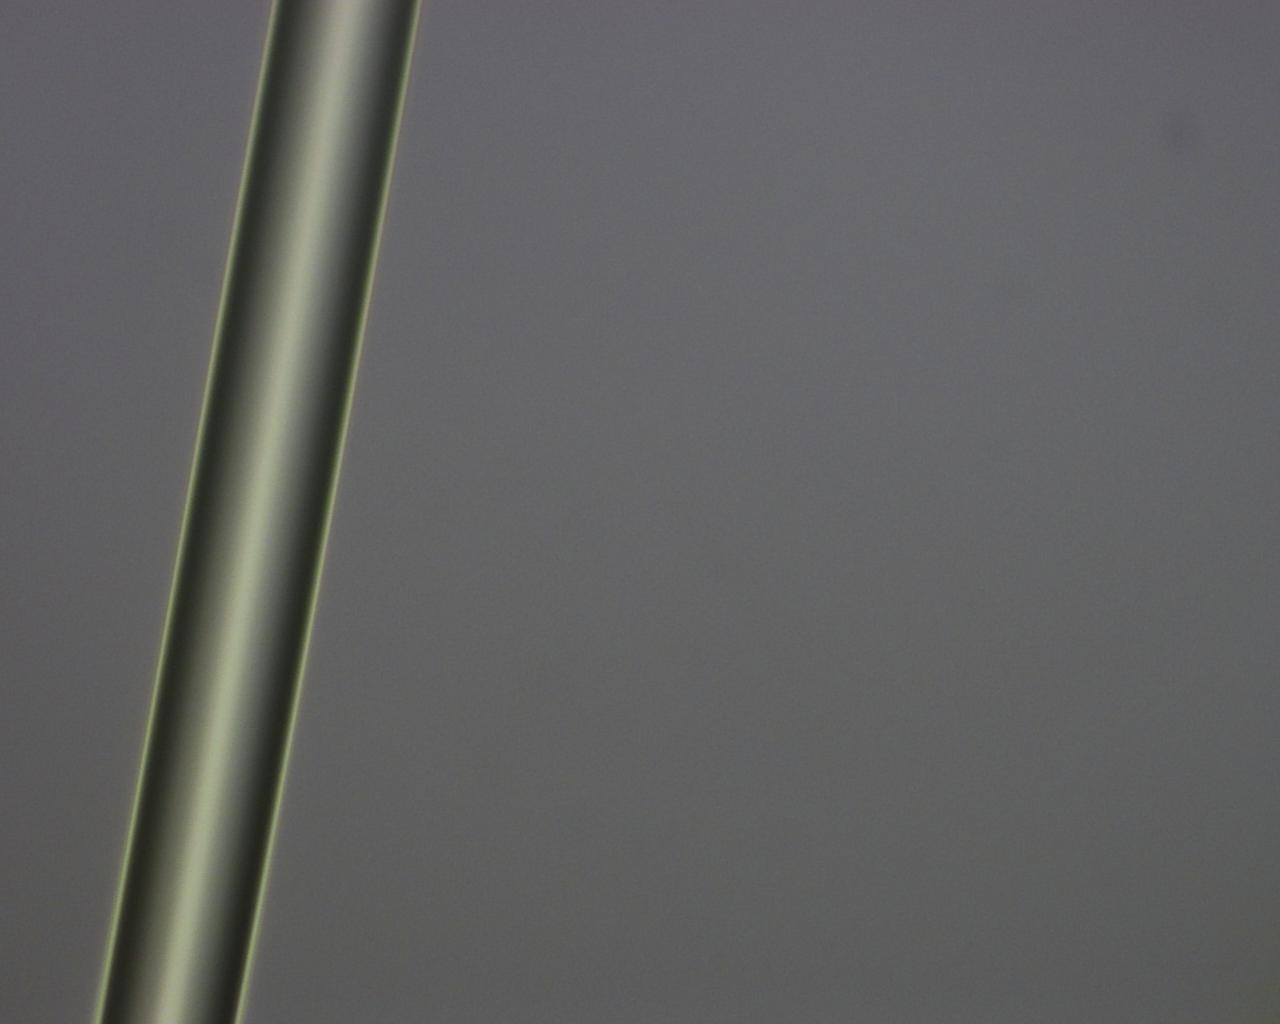fiber: (567, 0, 1280, 471), (646, 471, 724, 1024), (187, 0, 277, 471)
